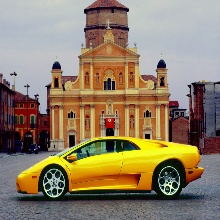no damage: (17, 135, 204, 200)
